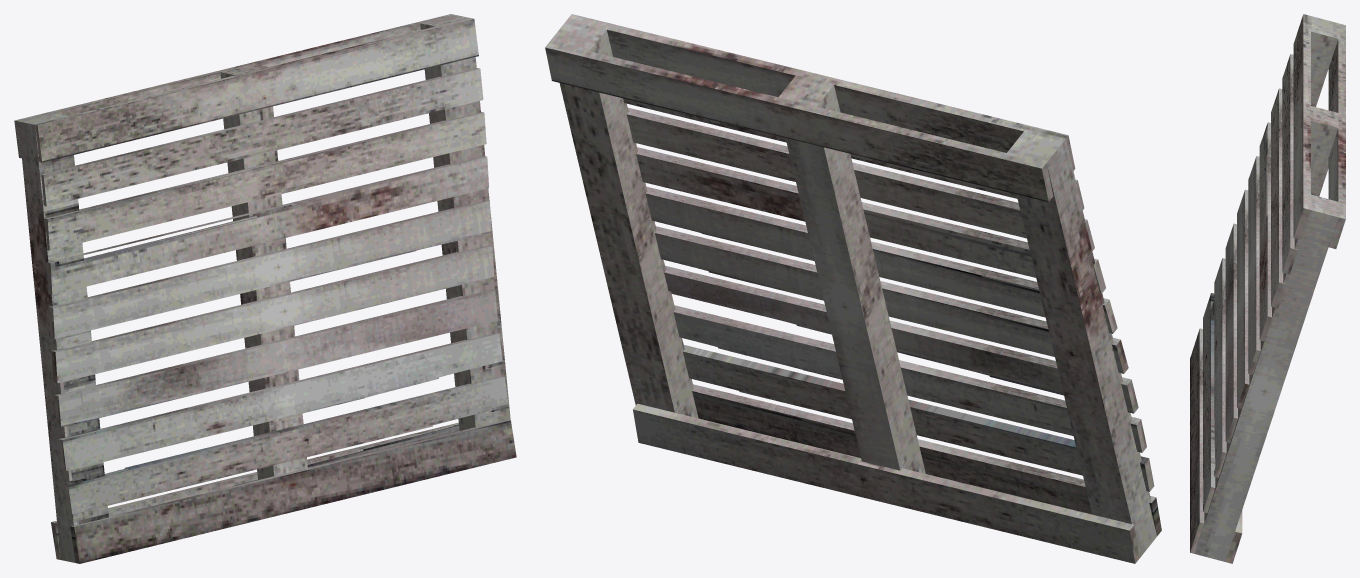
File: palet02_Rooftop.fbx
The picture shows the model from 3 angles, left to right: view 1: azimuth 30°, elevation 25°; view 2: azimuth 150°, elevation 25°; view 3: azimuth 270°, elevation 25°; orthographic projection. The views are drawn at different scales.
Visible parts, largest first — view 1: palet02_Rooftop; view 2: palet02_Rooftop; view 3: palet02_Rooftop.
Boxes of the visible parts, x1,y1,x2,y2 form: palet02_Rooftop: (14, 14, 516, 563); palet02_Rooftop: (545, 14, 1161, 563); palet02_Rooftop: (1190, 14, 1345, 563).
Size of the model in its own units: 1.51 by 1.27 by 0.4898.
